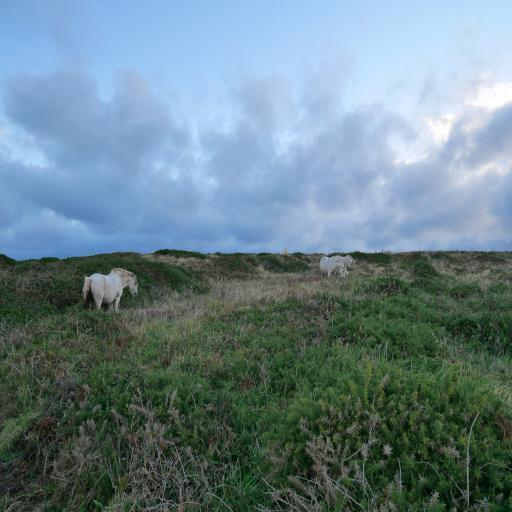horse: (82, 265, 138, 313), (318, 255, 350, 281), (332, 256, 356, 270)
